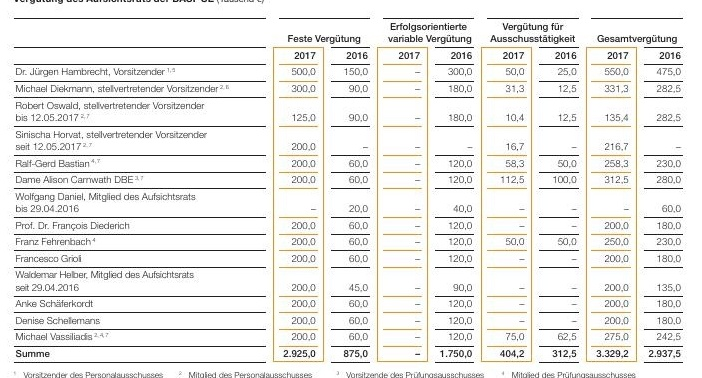table: (0, 0, 702, 378)
